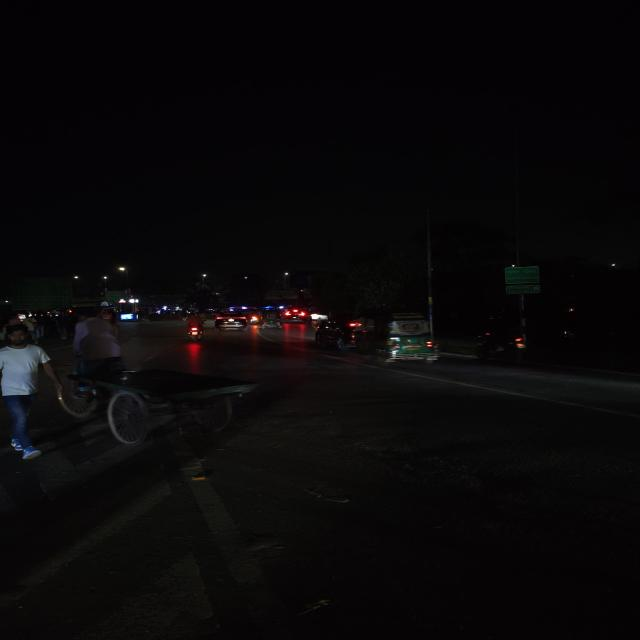car: (311, 316, 365, 352), (212, 311, 251, 332)
cng: (370, 311, 439, 365), (260, 310, 284, 331)
motorcycle: (180, 311, 209, 342)
pedestrian: (0, 324, 59, 455)
rickshaw: (54, 352, 258, 451)
